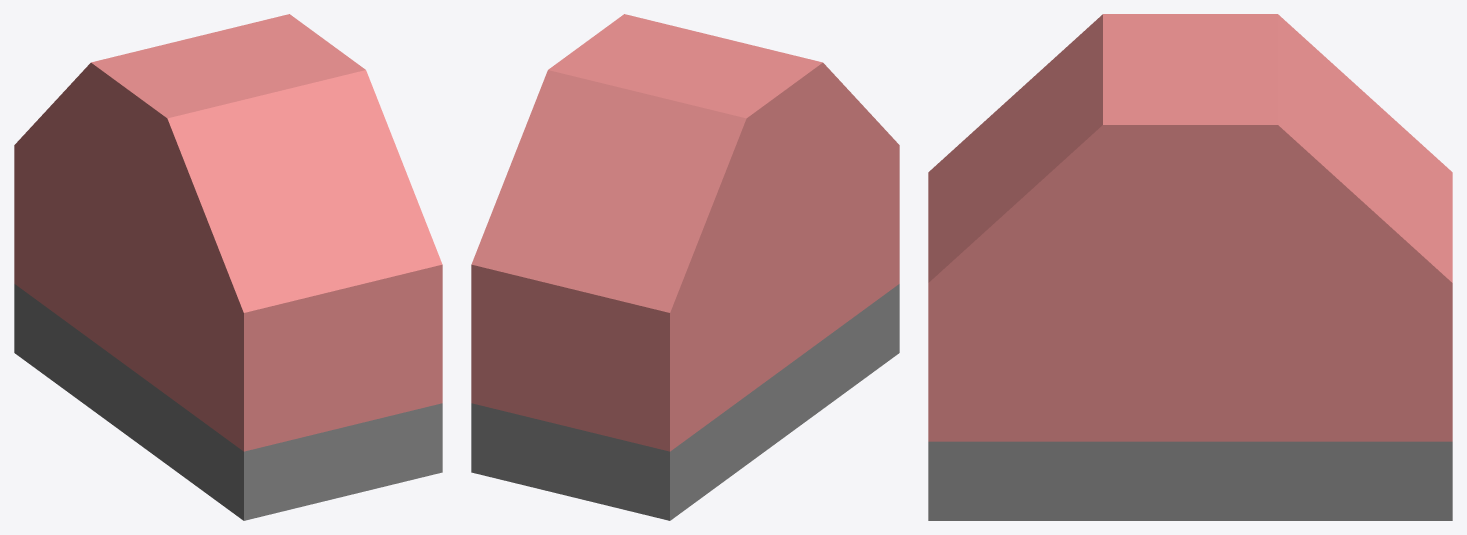
File: SM_Motor_1x2x5s.gltf
The picture shows the model from 3 angles, left to right: view 1: azimuth 30°, elevation 25°; view 2: azimuth 150°, elevation 25°; view 3: azimuth 270°, elevation 25°; orthographic projection. The views are drawn at different scales.
Visible parts, largest first — view 1: SM_Motor_1x2x5s; view 2: SM_Motor_1x2x5s; view 3: SM_Motor_1x2x5s.
Part boxes in pixels (x1,y1,x2,y2): SM_Motor_1x2x5s: (14, 14, 442, 520); SM_Motor_1x2x5s: (471, 14, 899, 520); SM_Motor_1x2x5s: (928, 14, 1452, 520).
Bounding box in the file's own units: 0.3 × 0.5 × 0.6.
